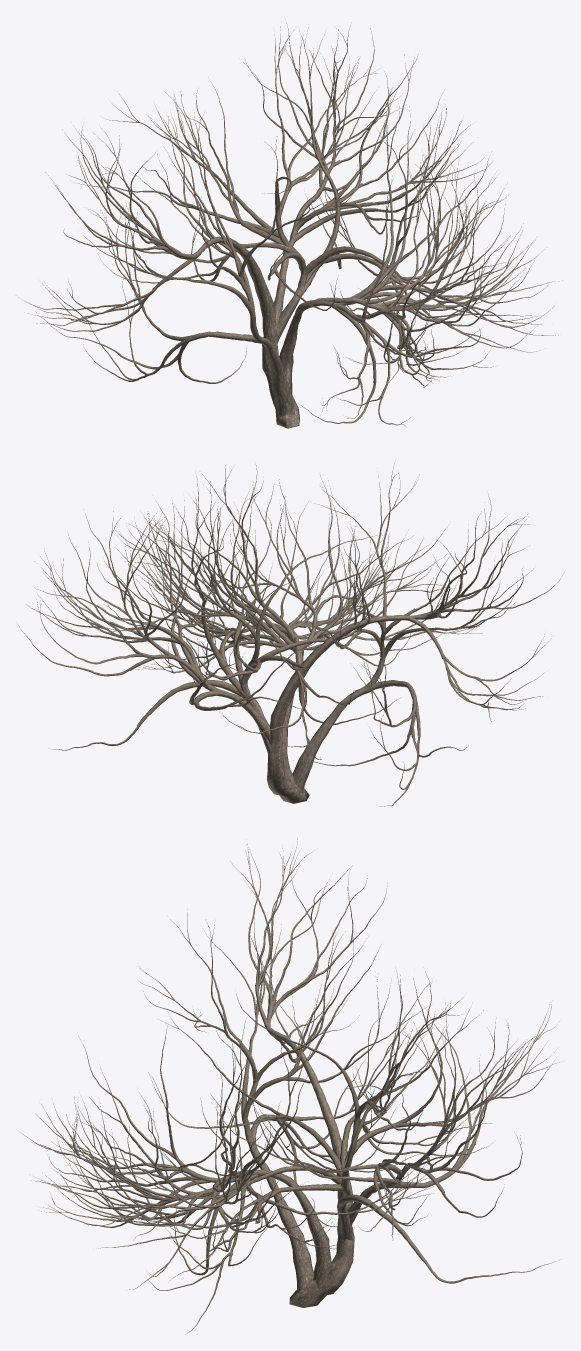
File: SM_MightyOak_UpperStructure.fbx
The picture shows the model from 3 angles, top to bottom: view 1: azimuth 30°, elevation 25°; view 2: azimuth 150°, elevation 25°; view 3: azimuth 270°, elevation 25°; orthographic projection. The views are drawn at different scales.
Parts seen in each view (by area): view 1: SM_MightyOak_UpperStructure; view 2: SM_MightyOak_UpperStructure; view 3: SM_MightyOak_UpperStructure.
Part boxes in pixels (left/top/right/bottom): SM_MightyOak_UpperStructure: left=18, top=22, right=562, bottom=428; SM_MightyOak_UpperStructure: left=17, top=461, right=562, bottom=806; SM_MightyOak_UpperStructure: left=20, top=838, right=559, bottom=1334.
Bounding box in the file's own units: 13.48 × 8.89 × 12.12.
2 materials, 2 textured.
